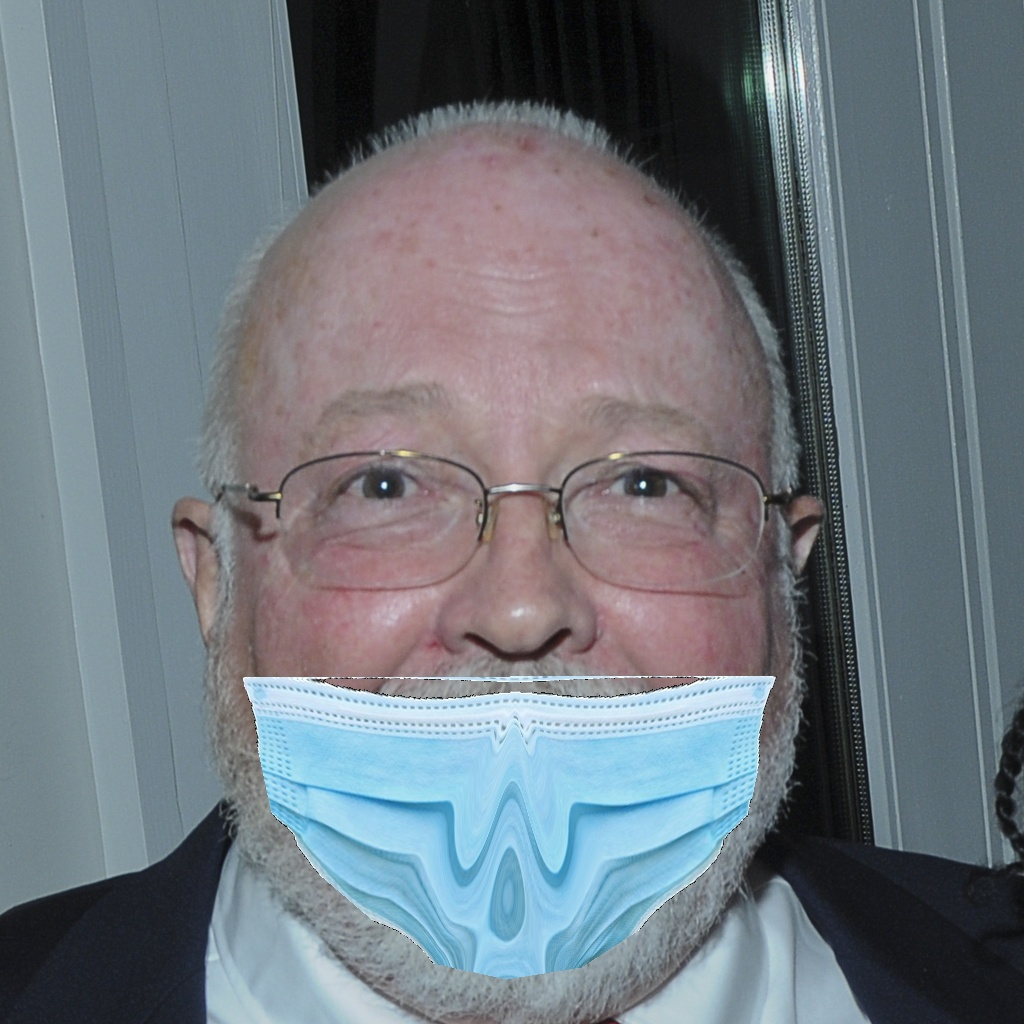mask_weared_incorrect: (245, 382, 774, 1021)
